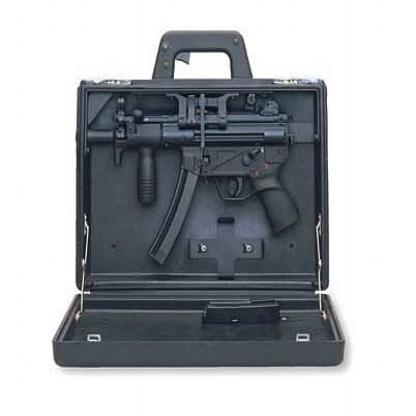Gun: (75, 94, 302, 266)
